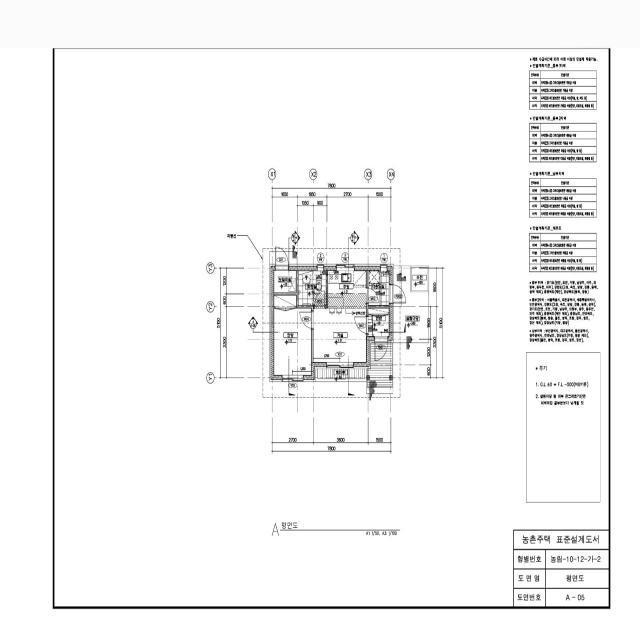background: (0, 0, 640, 640)
space_bedroom: (271, 295, 313, 379)
space_front: (368, 308, 392, 340)
space_kitchen: (328, 267, 366, 308)
space_living_room: (313, 308, 368, 366)
space_multipurpose_space: (368, 267, 392, 305)
space_other: (271, 267, 296, 292)
space_toilet: (298, 267, 326, 305)
